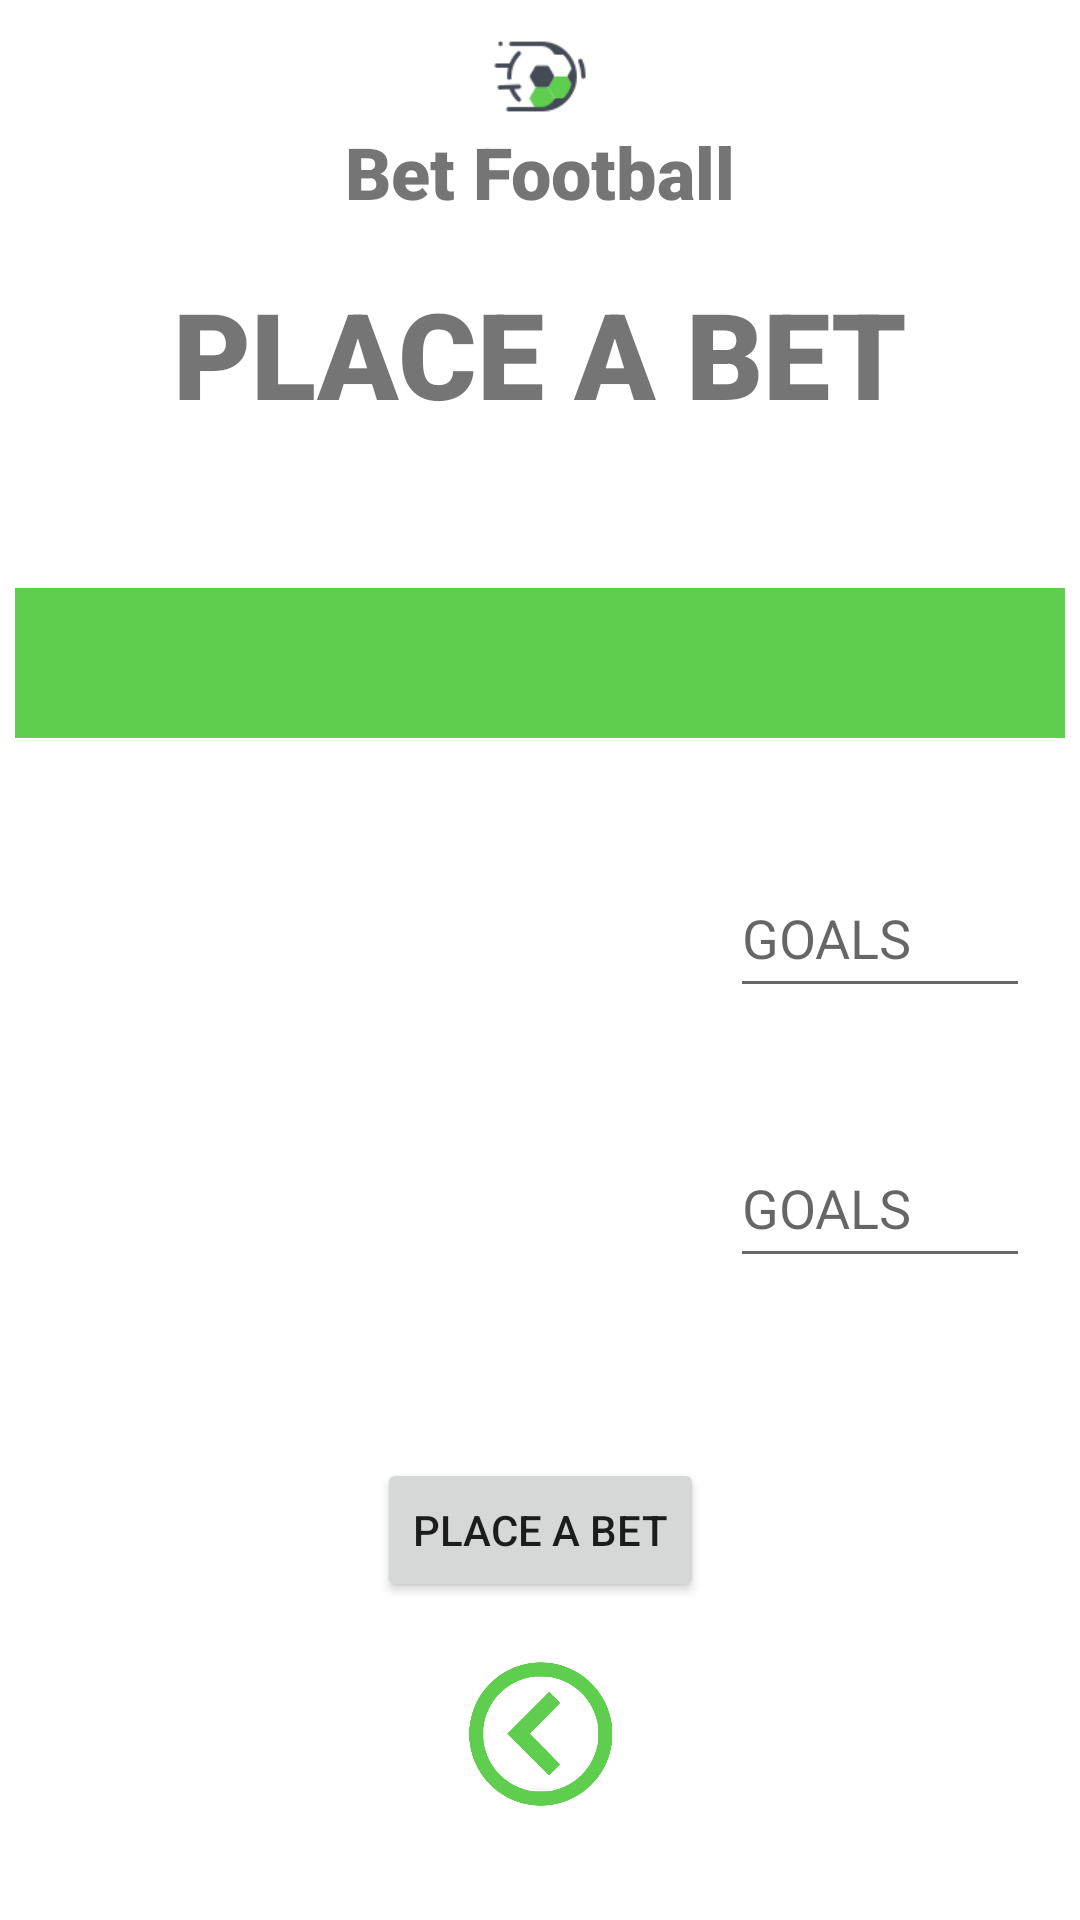

Locate icon controls on the screen. Image size 1080x1920, boxes as (x1, y1, x2, y2).
back: (469, 1662, 612, 1806)
